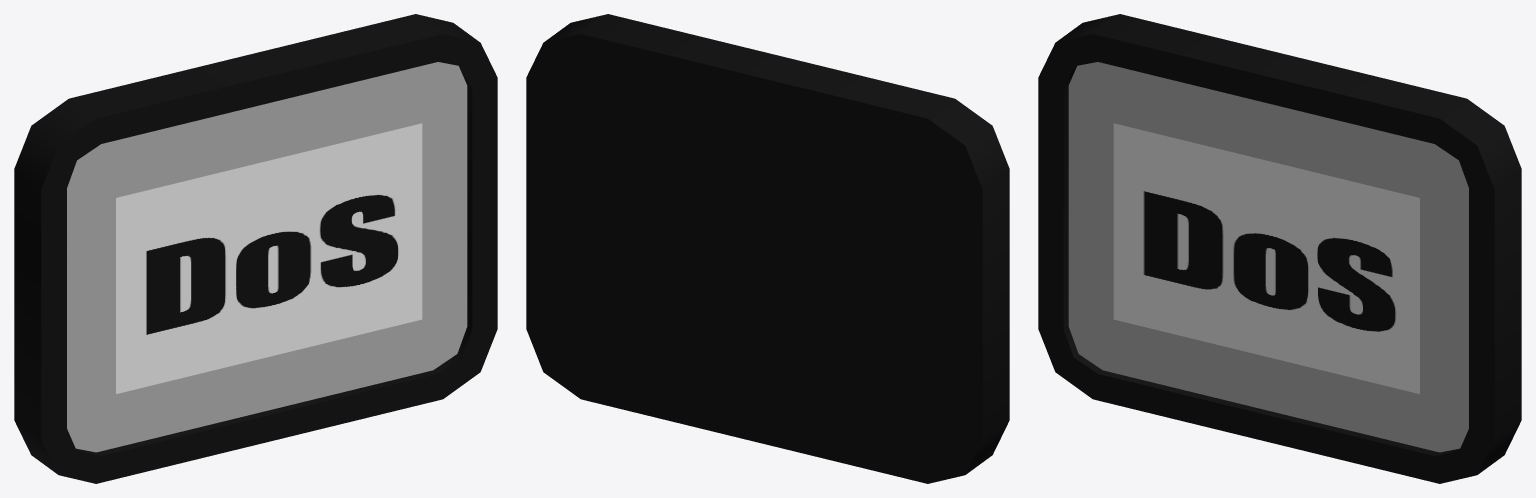
The model's file is FloorPanel03_Art.fbx.
The picture shows the model from 3 angles, left to right: view 1: azimuth 30°, elevation 25°; view 2: azimuth 150°, elevation 25°; view 3: azimuth 330°, elevation 25°; orthographic projection.
Parts seen in each view (by area): view 1: FloorPanel03_Art; view 2: FloorPanel03_Art; view 3: FloorPanel03_Art.
Boxes of the visible parts, <box> form: FloorPanel03_Art: <box>14,14,497,483</box>; FloorPanel03_Art: <box>526,14,1009,483</box>; FloorPanel03_Art: <box>1038,14,1521,483</box>.
Bounding box in the file's own units: 1.19 × 0.9103 × 0.1233.
